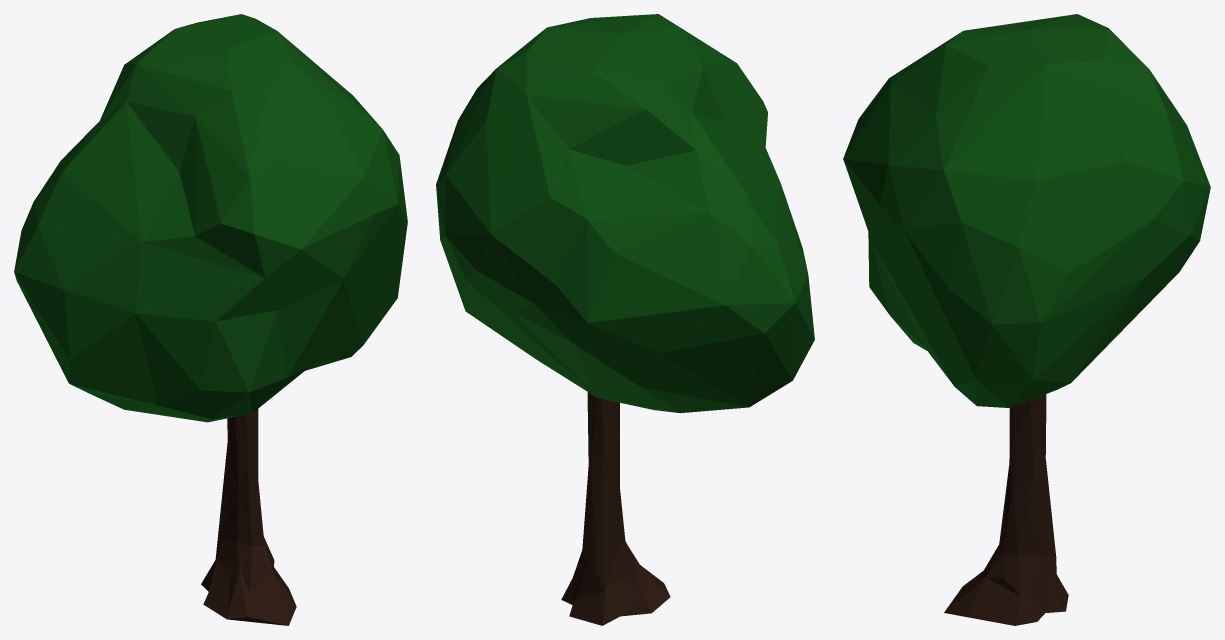
File: SM_tree_04.fbx
The picture shows the model from 3 angles, left to right: view 1: azimuth 30°, elevation 25°; view 2: azimuth 150°, elevation 25°; view 3: azimuth 270°, elevation 25°; orthographic projection. The views are drawn at different scales.
Visible parts, largest first — view 1: tree_04; view 2: tree_04; view 3: tree_04.
Part boxes in pixels (<box>): tree_04: <box>14,14,407,625</box>; tree_04: <box>436,14,814,625</box>; tree_04: <box>843,14,1210,625</box>.
Bounding box in the file's own units: 600 × 892 × 521.
